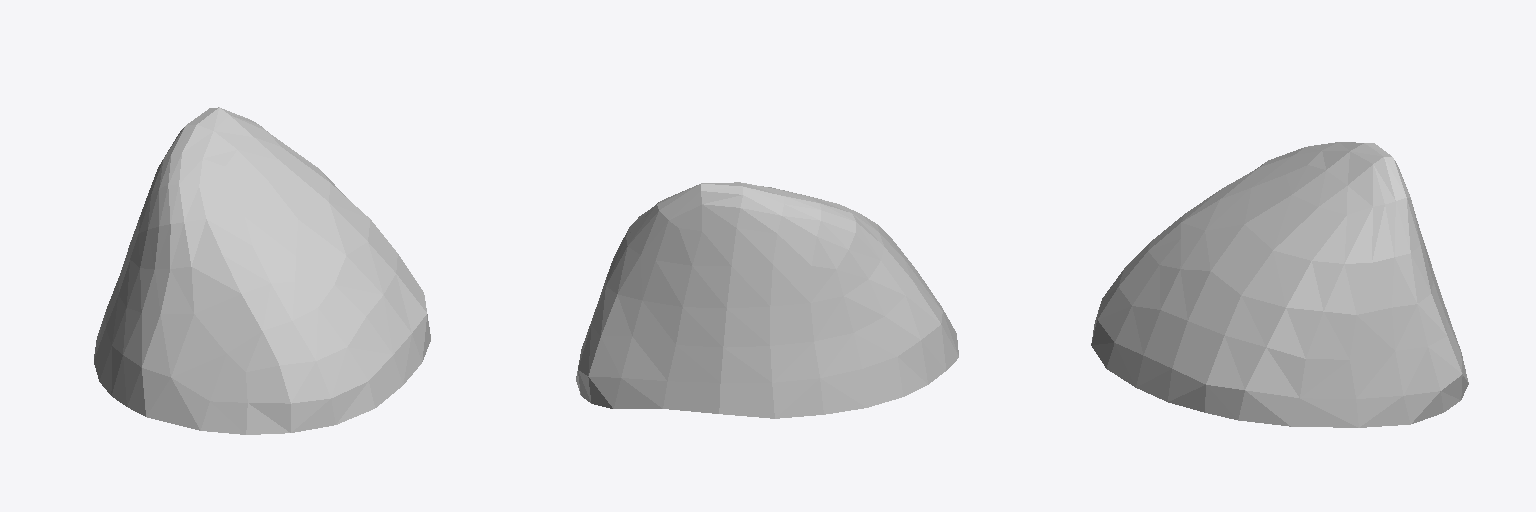
File: stone4.obj
3 views of the same model, side by side, from view 1: azimuth 30°, elevation 25°; view 2: azimuth 150°, elevation 25°; view 3: azimuth 270°, elevation 25° (orthographic).
Parts seen in each view (by area): view 1: stone4_Group1.011; view 2: stone4_Group1.011; view 3: stone4_Group1.011.
Boxes of the visible parts, box(x1,y1,x2,y2) form: stone4_Group1.011: box(94, 107, 430, 434); stone4_Group1.011: box(576, 182, 958, 418); stone4_Group1.011: box(1091, 142, 1468, 427).
Size of the model in its own units: 1.47 by 0.9778 by 1.57.